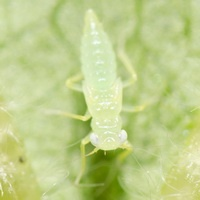insect: (57, 9, 135, 186)
